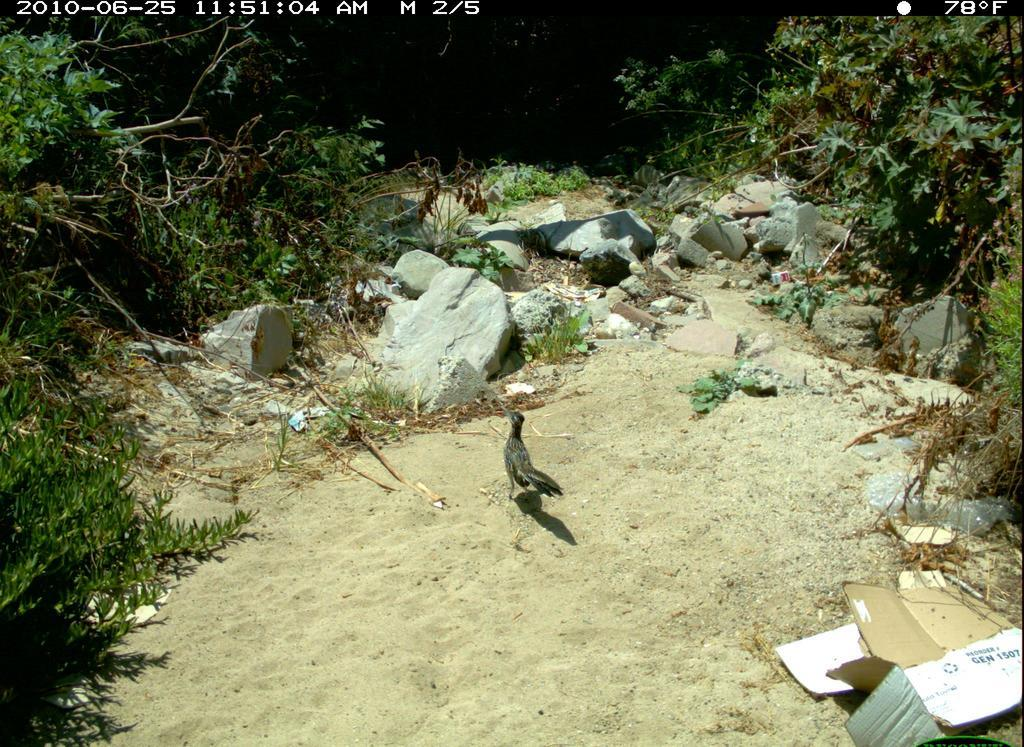bird: (492, 399, 571, 519)
